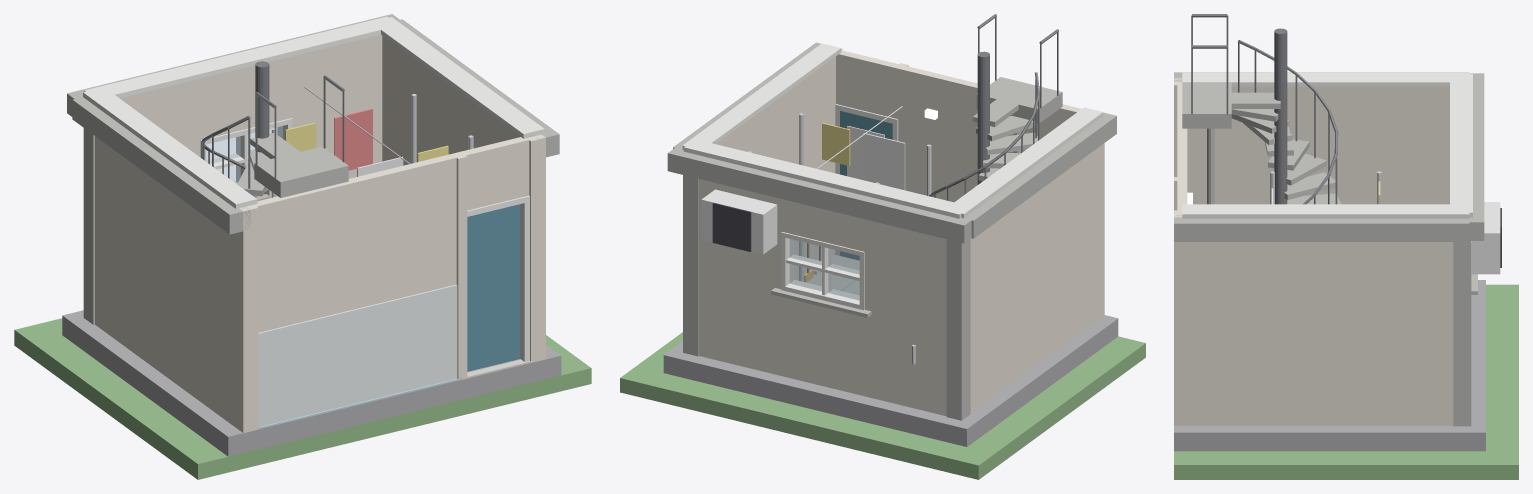
File: tube_yard_stair.glb
The picture shows the model from 3 angles, left to right: view 1: azimuth 30°, elevation 25°; view 2: azimuth 150°, elevation 25°; view 3: azimuth 270°, elevation 25°; orthographic projection. The views are drawn at different scales.
Parts seen in each view (by area): view 1: wall, wall_tile, trim, grass, concrete, foundation, door, steel_dark, cloth1, cloth3, glass, metal (+1 smaller); view 2: wall, concrete, grass, trim, foundation, steel_dark, glass, white, cloth4, dark, cloth3, metal (+3 smaller); view 3: wall, concrete, grass, trim, foundation, steel_dark, white.
Boxes of the visible parts, x1=… form: wall: x1=95, y1=34, x2=545, y2=433; wall_tile: x1=258, y1=284, x2=457, y2=427; trim: x1=83, y1=16, x2=544, y2=361; grass: x1=14, y1=318, x2=591, y2=479; concrete: x1=67, y1=14, x2=559, y2=324; foundation: x1=62, y1=310, x2=561, y2=456; door: x1=467, y1=204, x2=520, y2=371; steel_dark: x1=201, y1=61, x2=344, y2=195; cloth1: x1=334, y1=109, x2=372, y2=170; cloth3: x1=285, y1=122, x2=448, y2=161; glass: x1=206, y1=126, x2=282, y2=182; metal: x1=271, y1=86, x2=473, y2=197; wall: x1=699, y1=48, x2=1104, y2=416; concrete: x1=667, y1=42, x2=1116, y2=420; grass: x1=620, y1=332, x2=1145, y2=479; trim: x1=682, y1=43, x2=1103, y2=310; foundation: x1=663, y1=280, x2=1118, y2=446; steel_dark: x1=929, y1=14, x2=1058, y2=200; glass: x1=790, y1=239, x2=859, y2=300; white: x1=701, y1=189, x2=777, y2=254; cloth4: x1=813, y1=133, x2=905, y2=274; dark: x1=712, y1=202, x2=751, y2=251; cloth3: x1=822, y1=123, x2=850, y2=165; metal: x1=748, y1=106, x2=931, y2=364; wall: x1=1174, y1=78, x2=1453, y2=425; concrete: x1=1174, y1=72, x2=1484, y2=426; grass: x1=1174, y1=284, x2=1518, y2=479; trim: x1=1182, y1=72, x2=1472, y2=218; foundation: x1=1174, y1=280, x2=1485, y2=451; steel_dark: x1=1191, y1=14, x2=1338, y2=204; white: x1=1471, y1=202, x2=1500, y2=274.
Bounding box in the file's own units: 5.2 × 4.37 × 4.2.
